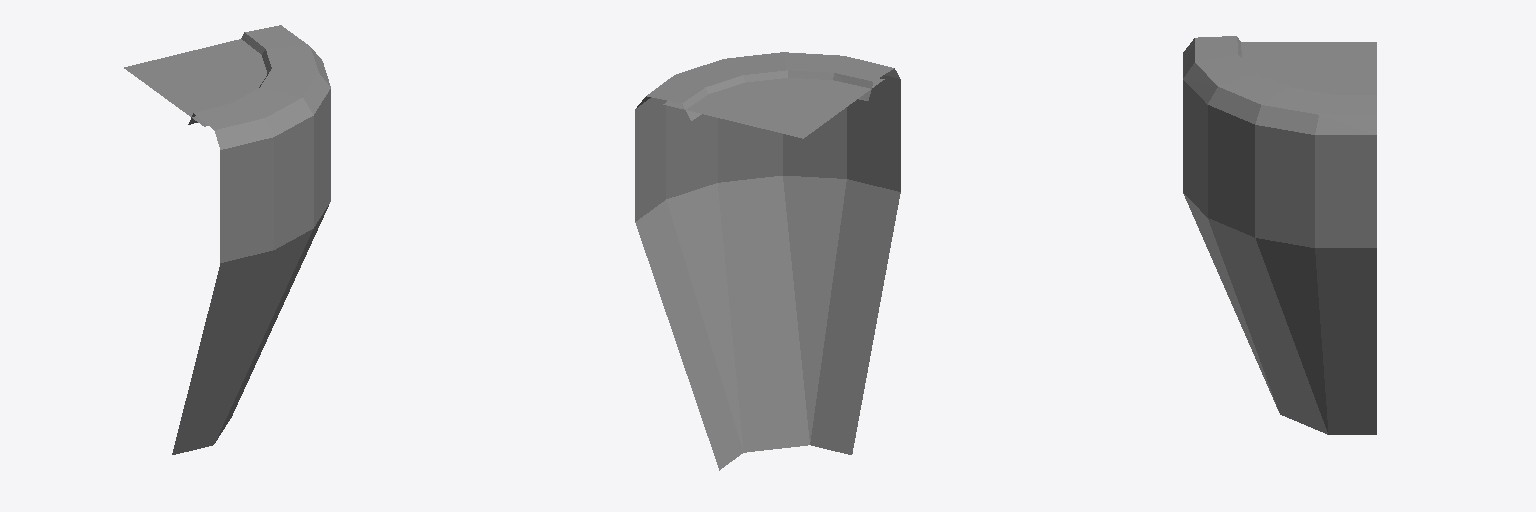
File: wall_corner_convex_a.obj
3 renders of one model, left to right at view 1: azimuth 30°, elevation 25°; view 2: azimuth 150°, elevation 25°; view 3: azimuth 270°, elevation 25°, orthographic.
Visible parts, largest first — view 1: wall_corner_convex_a; view 2: wall_corner_convex_a; view 3: wall_corner_convex_a.
Part boxes in pixels (x1,y1,x2,y2): wall_corner_convex_a: (124, 25, 330, 454); wall_corner_convex_a: (635, 52, 900, 470); wall_corner_convex_a: (1183, 36, 1376, 434).
Bounding box in the file's own units: 200 × 406 × 200.